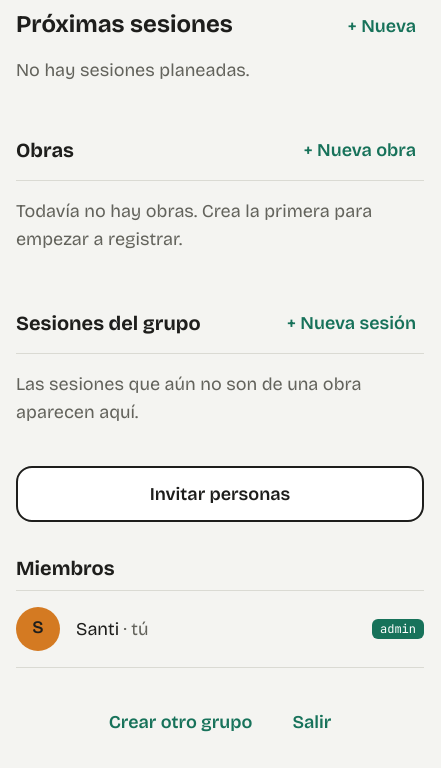
Test case: HU-02 · crear otro grupo › offers it in the header selector when you have several, and shows both groups after creating
(page scrolled)
Click the link "Crear otro grupo" at (180, 722), box 109,710 -> 252,732
(page scrolled)
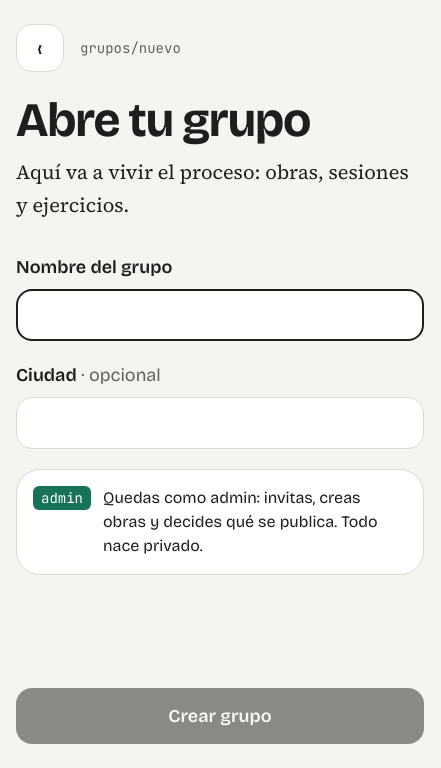
Type "Segundo" into the field labelled "Nombre del grupo" at (220, 315), box 16,289 -> 424,341
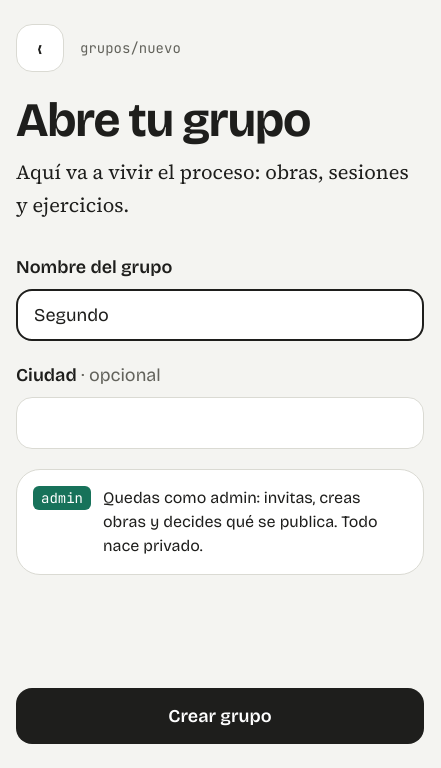
Click the button "Crear grupo" at (220, 716), box 16,688 -> 424,744
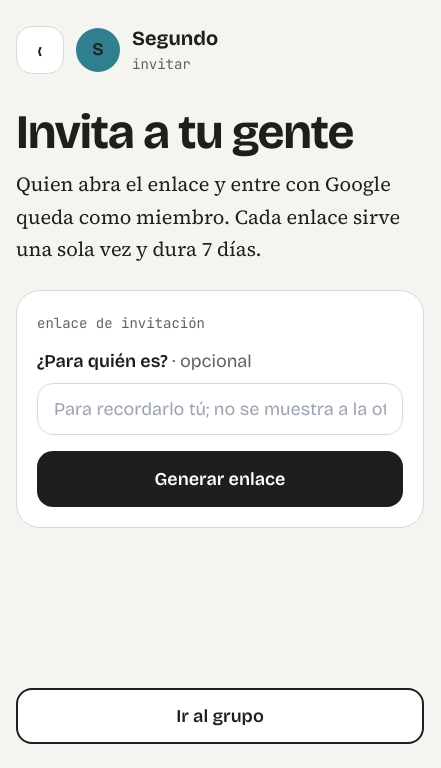
Expected: the heading "Invita a tu gente" is shown, 16,103 -> 353,161
Click the link "Ir al grupo" at (220, 716), box 16,688 -> 424,744
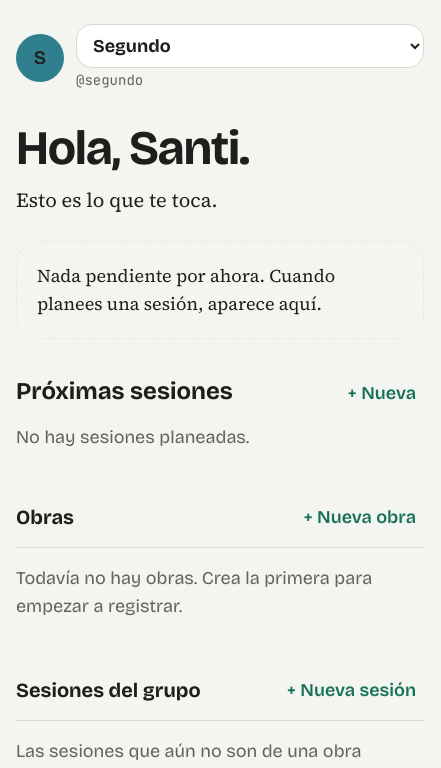
Select "+ Crear otro grupo" in the dropdown named "Cambiar de grupo" at (250, 46), box 76,24 -> 424,68
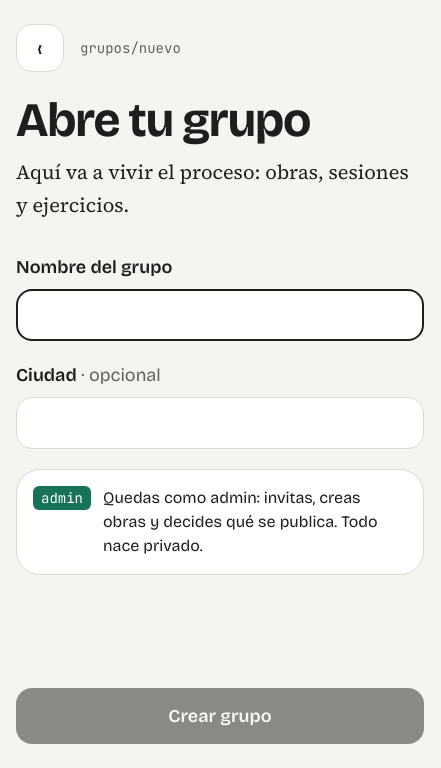
Expected: the heading "Abre tu grupo" is shown, 16,91 -> 310,149
